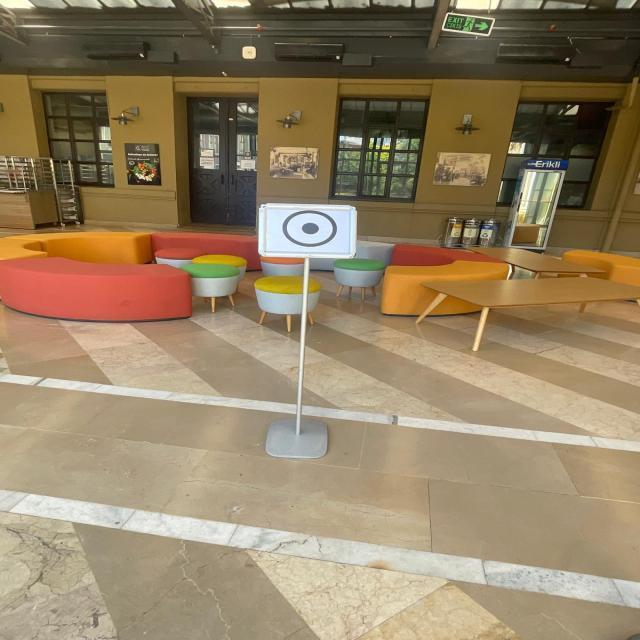Target: (217, 181, 400, 277)
inner: (296, 215, 324, 243)
